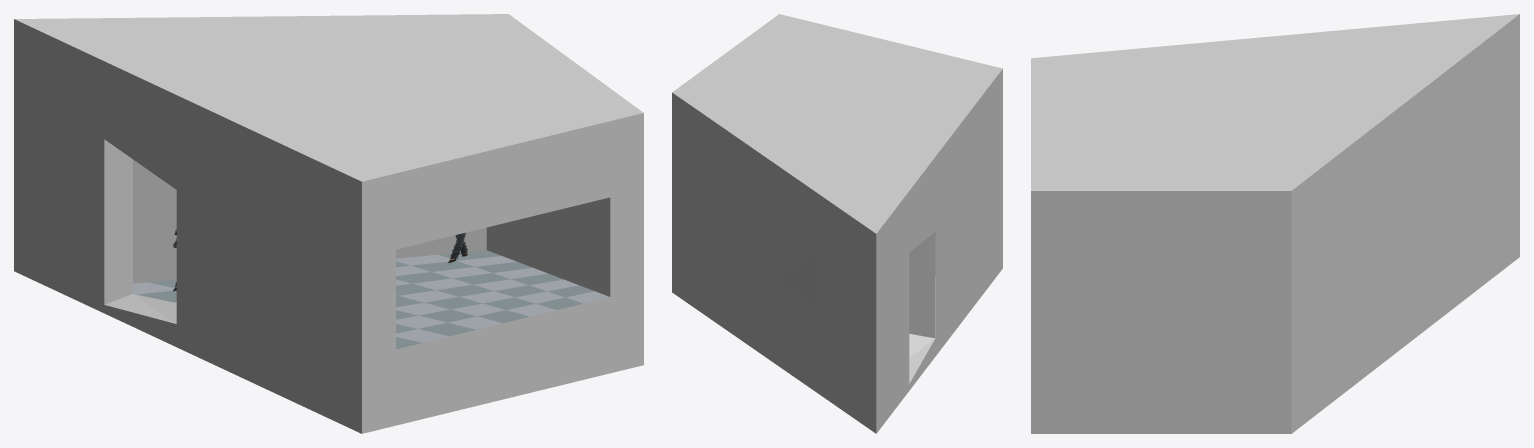
3 renders of one model, left to right at view 1: azimuth 30°, elevation 25°; view 2: azimuth 150°, elevation 25°; view 3: azimuth 270°, elevation 25°, orthographic. The views are drawn at different scales.
Visible parts, largest first — view 1: Model; view 2: Model; view 3: Model.
Part boxes in pixels (x1,y1,x2,y2): Model: (14, 14, 643, 433); Model: (672, 14, 1002, 433); Model: (1031, 14, 1519, 433).
Size of the model in its own units: 9.23 by 5.91 by 10.77.
Materials: 5 (1 with a texture image).
